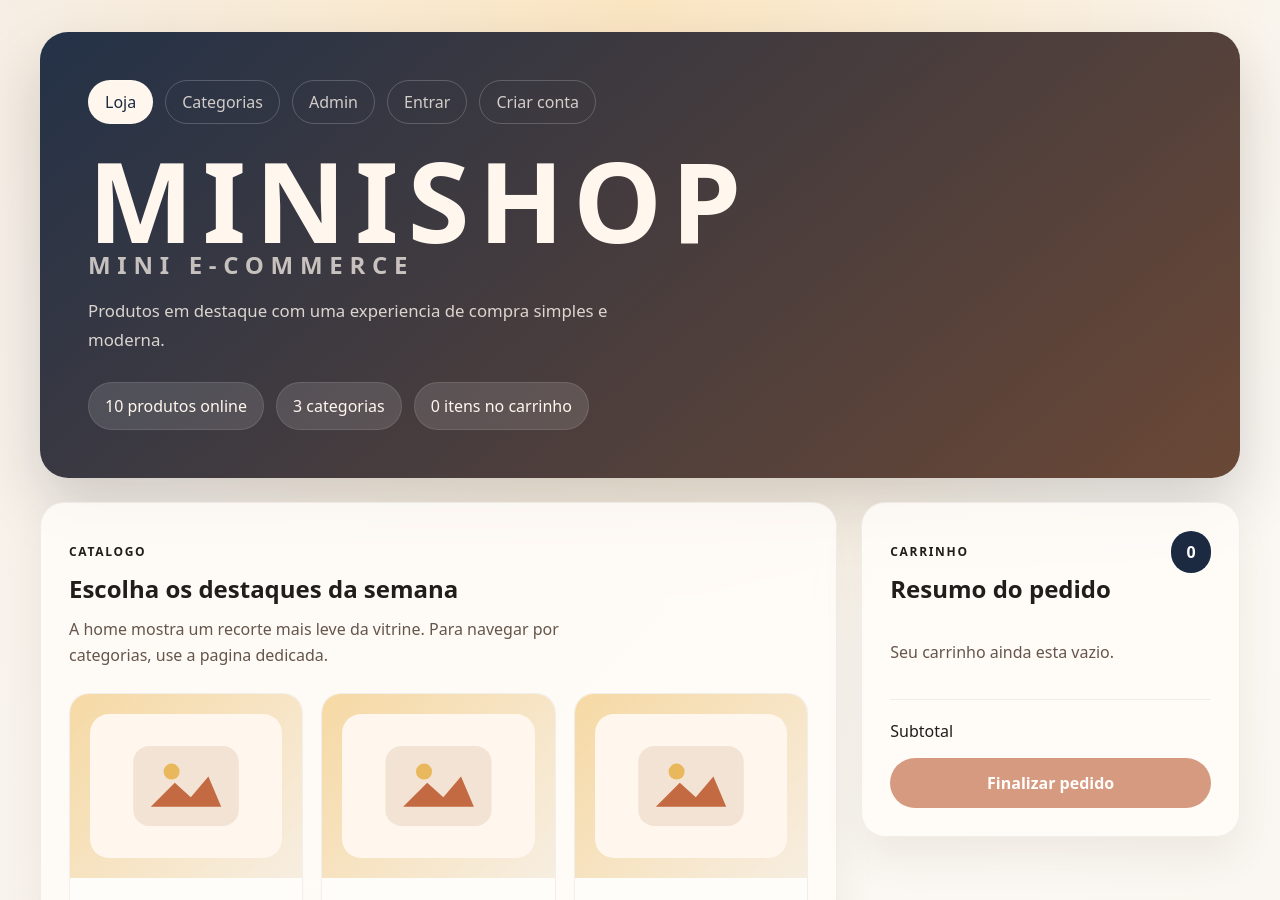
Test case: App › abre a pagina de login pela navegacao
Click the link "Entrar": click(427, 102) [387,80,467,124]
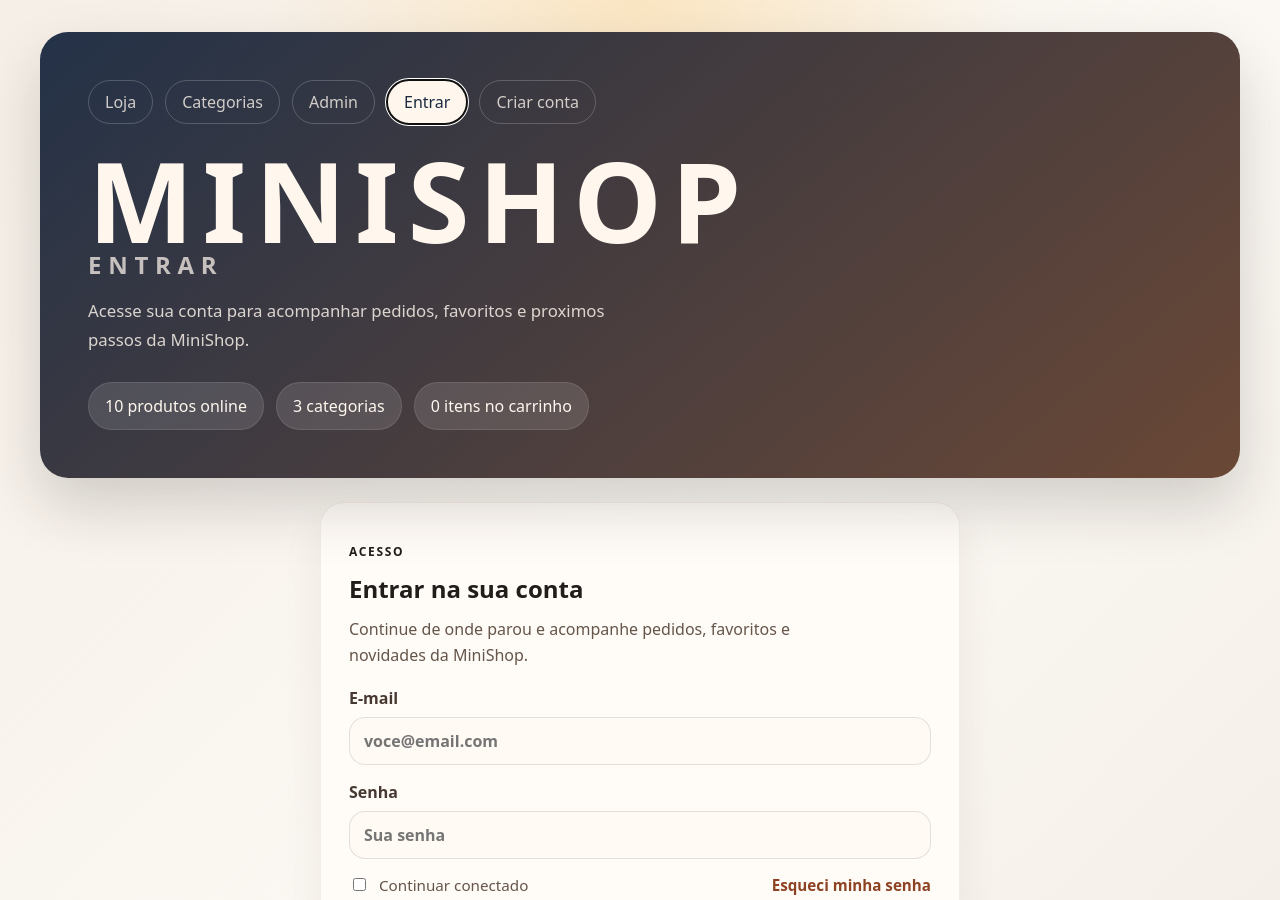
Expected: the heading "Entrar na sua conta" is shown, [349,572,584,605]
Expected: the text "acompanhe pedidos, favoritos" is shown, [349,618,790,666]
